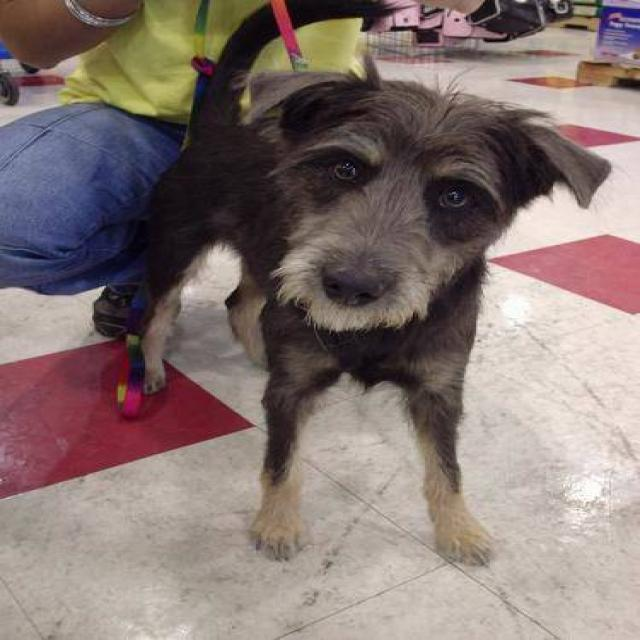dog: (126, 0, 611, 567)
